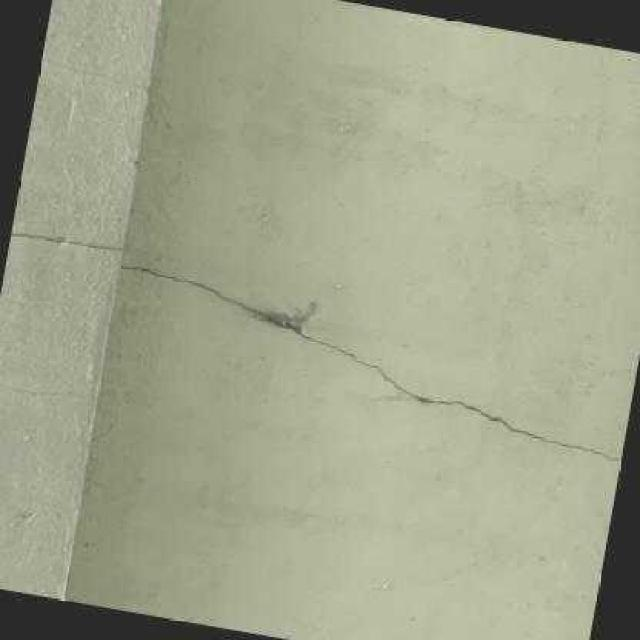D00: (119, 263, 621, 459), (10, 230, 119, 251)
